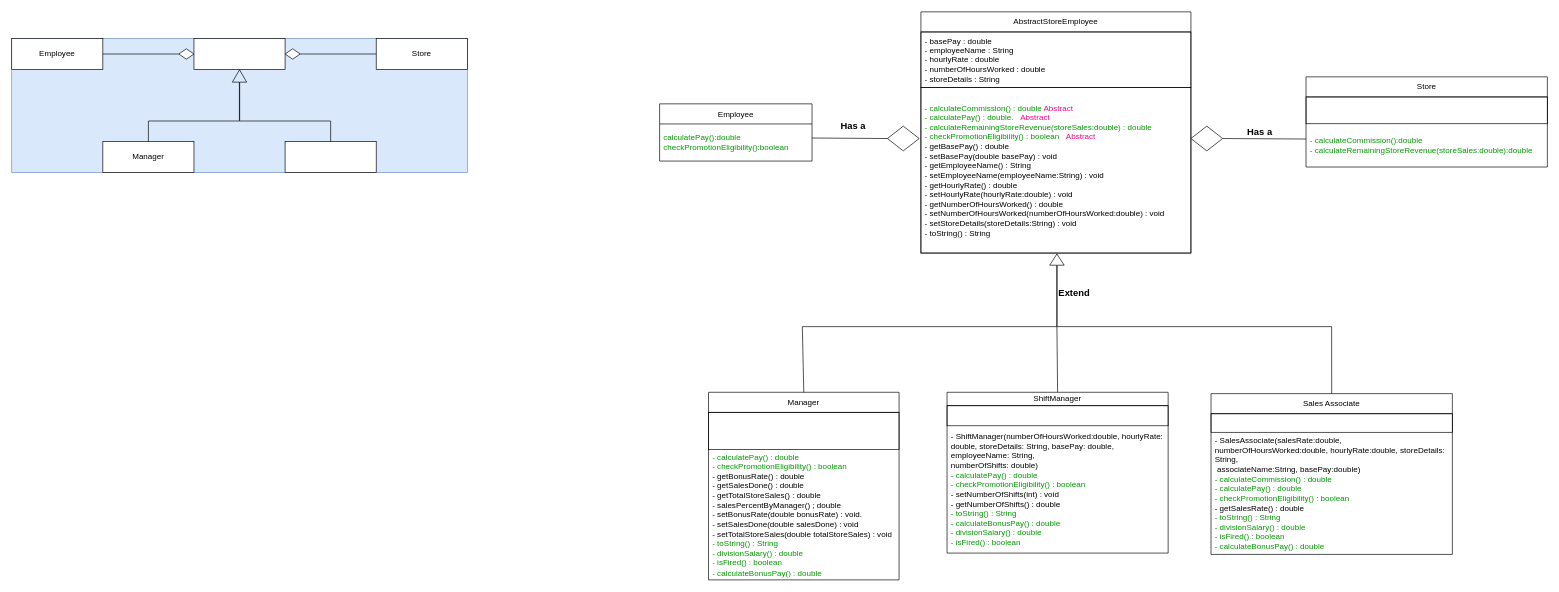
Image size: 1559x592. Some labels were removed from this diagram. Here are the shapes that lost their labels. From the top down, the centre of each, then its label:
[239,53]: AbstractStoreEmloyee
[1426,110]: - COMMISSION_RATE = 0.10:double - TAX = 0.14:double
[330,157]: SalesAssociate
[803,431]: - bonusRate:double - salesDone:double - totalStoreSales:double
[1057,415]: numberOfShifts : double
[1331,422]: - salesRate : double
